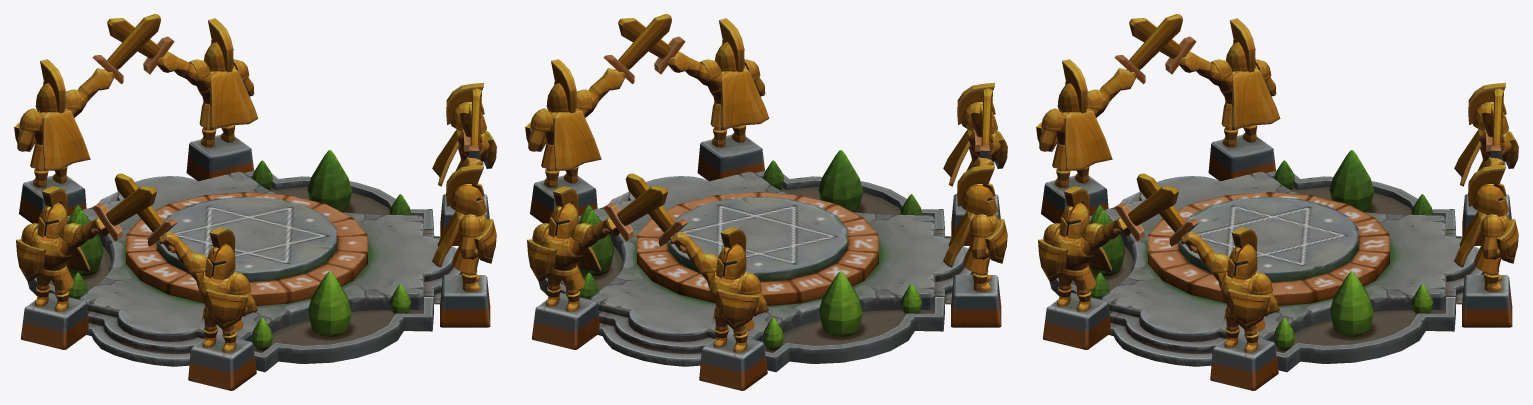
The model's file is HeroBase.FBX.
The picture shows the model from 3 angles, left to right: view 1: azimuth 30°, elevation 25°; view 2: azimuth 150°, elevation 25°; view 3: azimuth 270°, elevation 25°; orthographic projection.
Parts seen in each view (by area): view 1: HeroBase_Mes; view 2: HeroBase_Mes; view 3: HeroBase_Mes.
Boxes of the visible parts, x1,y1,x2,y2 form: HeroBase_Mes: [14, 14, 496, 390]; HeroBase_Mes: [525, 14, 1007, 390]; HeroBase_Mes: [1036, 14, 1518, 390].
Size of the model in its own units: 1828 by 661 by 1617.
